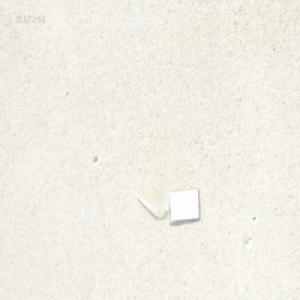LuggageTag: (128, 182, 199, 224)
